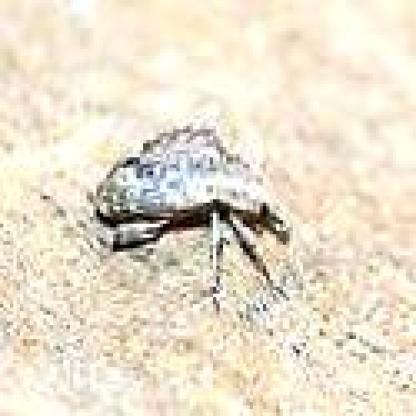rice-bug: (94, 124, 286, 288)
